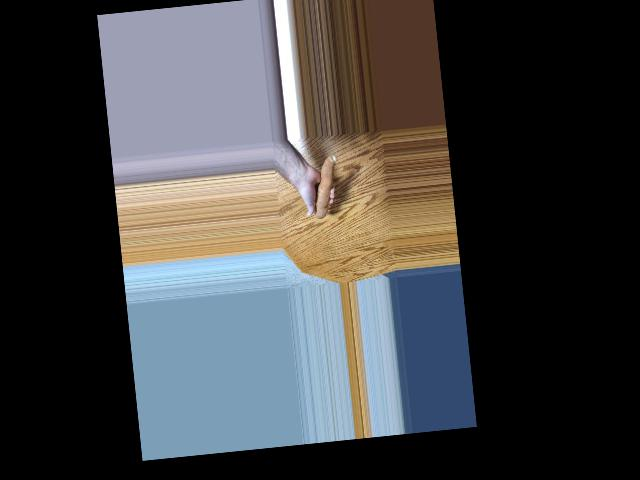sweet_potato: (309, 155, 332, 220)
